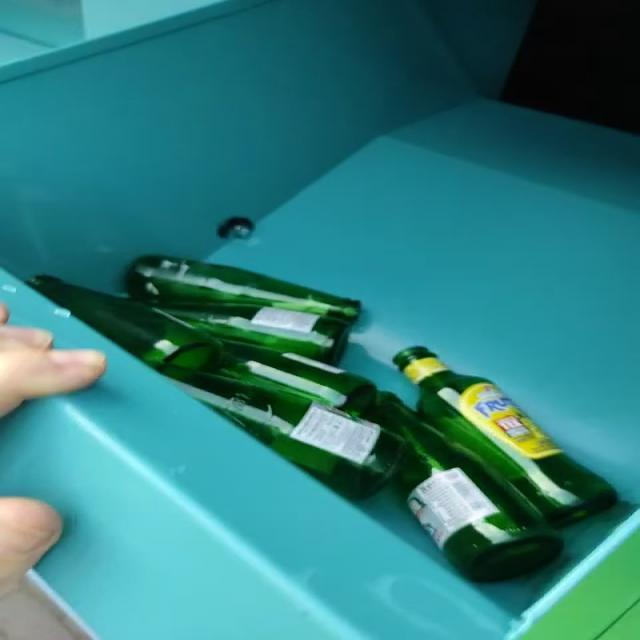Glass: (28, 256, 619, 582)
